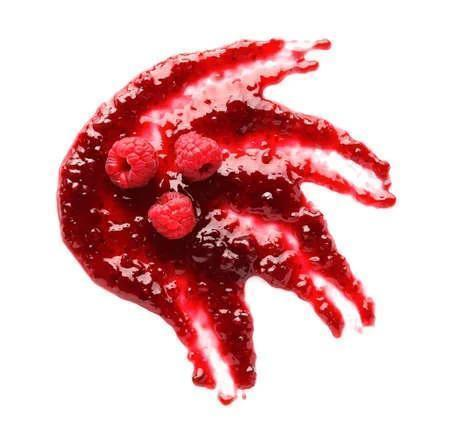Fire: (58, 39, 397, 404)
